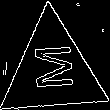M_W: (28, 45, 77, 96)
